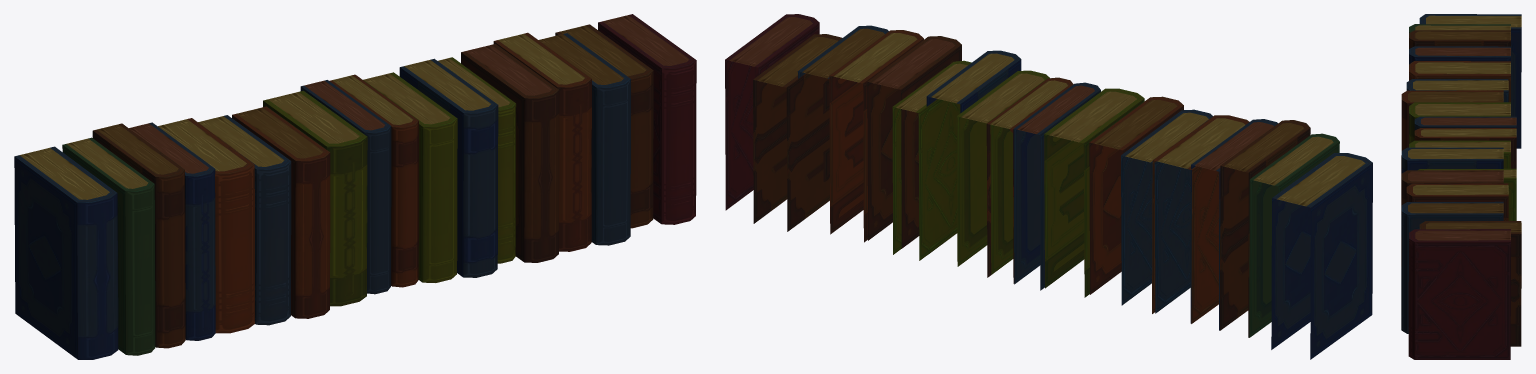
The model's file is BookGroup_Medium_2.gltf.
The picture shows the model from 3 angles, left to right: view 1: azimuth 30°, elevation 25°; view 2: azimuth 150°, elevation 25°; view 3: azimuth 270°, elevation 25°; orthographic projection. The views are drawn at different scales.
Visible parts, largest first — view 1: BookGroup_Medium_2; view 2: BookGroup_Medium_2; view 3: BookGroup_Medium_2.
Part boxes in pixels (x1,y1,x2,y2): BookGroup_Medium_2: [14, 14, 696, 359]; BookGroup_Medium_2: [725, 14, 1372, 359]; BookGroup_Medium_2: [1401, 14, 1521, 359].
Size of the model in its own units: 1.1 by 0.2949 by 0.2474.
1 material, 1 textured.
